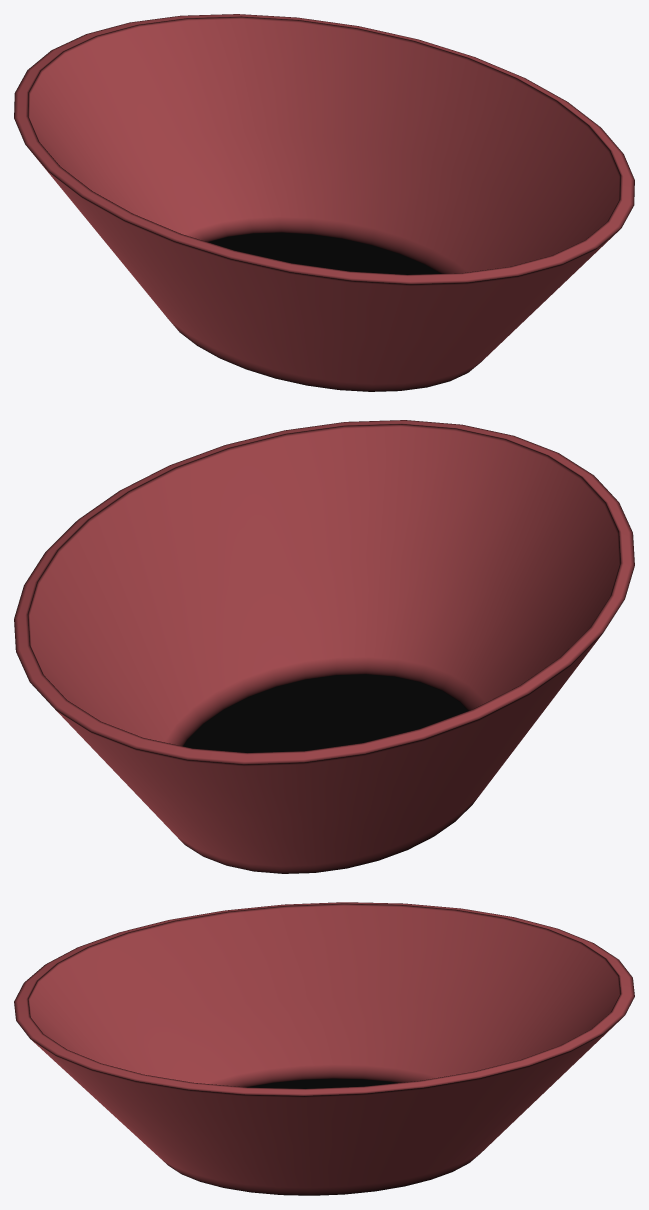
File: basket_low.fbx
3 renders of one model, top to bottom at view 1: azimuth 30°, elevation 25°; view 2: azimuth 150°, elevation 25°; view 3: azimuth 270°, elevation 25°, orthographic. The views are drawn at different scales.
Visible parts, largest first — view 1: Basket; view 2: Basket; view 3: Basket.
Boxes of the visible parts, left/top/right/bottom form: Basket: left=14, top=14, right=634, bottom=391; Basket: left=14, top=420, right=634, bottom=873; Basket: left=14, top=902, right=634, bottom=1195.
Size of the model in its own units: 345 by 127 by 469.
